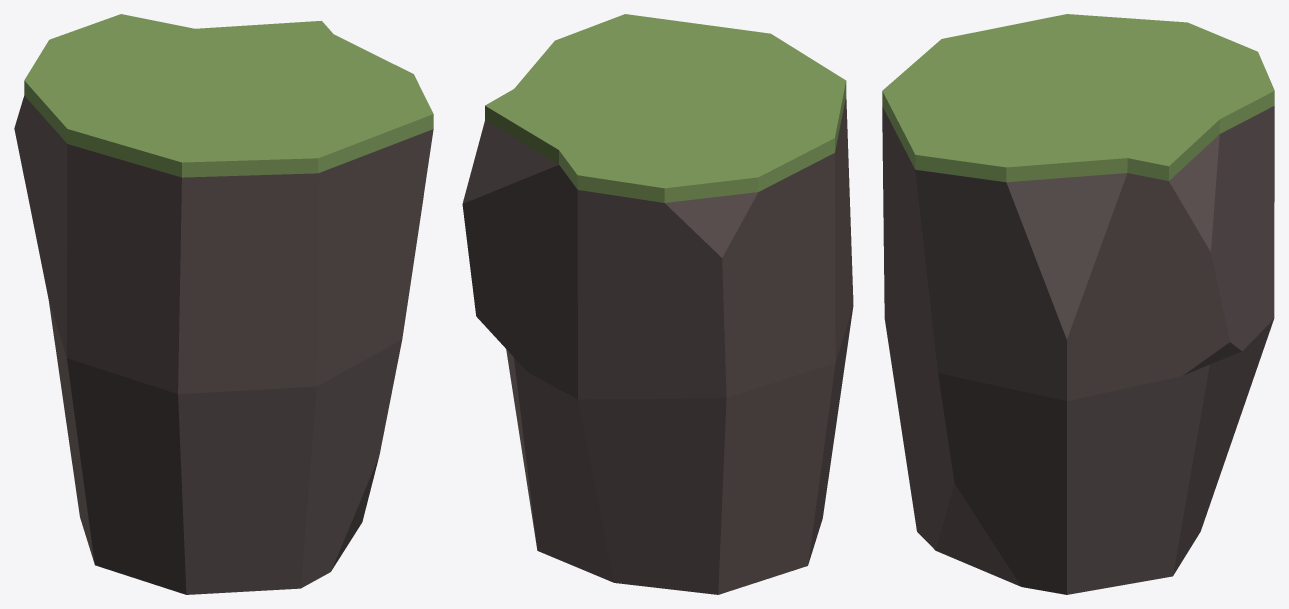
The model's file is lotusplatform3.fbx.
3 views of the same model, side by side, from view 1: azimuth 30°, elevation 25°; view 2: azimuth 150°, elevation 25°; view 3: azimuth 270°, elevation 25° (orthographic).
Visible parts, largest first — view 1: Cylinder; view 2: Cylinder; view 3: Cylinder.
Part boxes in pixels (bbox=[...]): Cylinder: bbox=[14, 14, 433, 594]; Cylinder: bbox=[462, 14, 853, 594]; Cylinder: bbox=[882, 14, 1274, 594].
Bounding box in the file's own units: 274 × 324 × 262.
